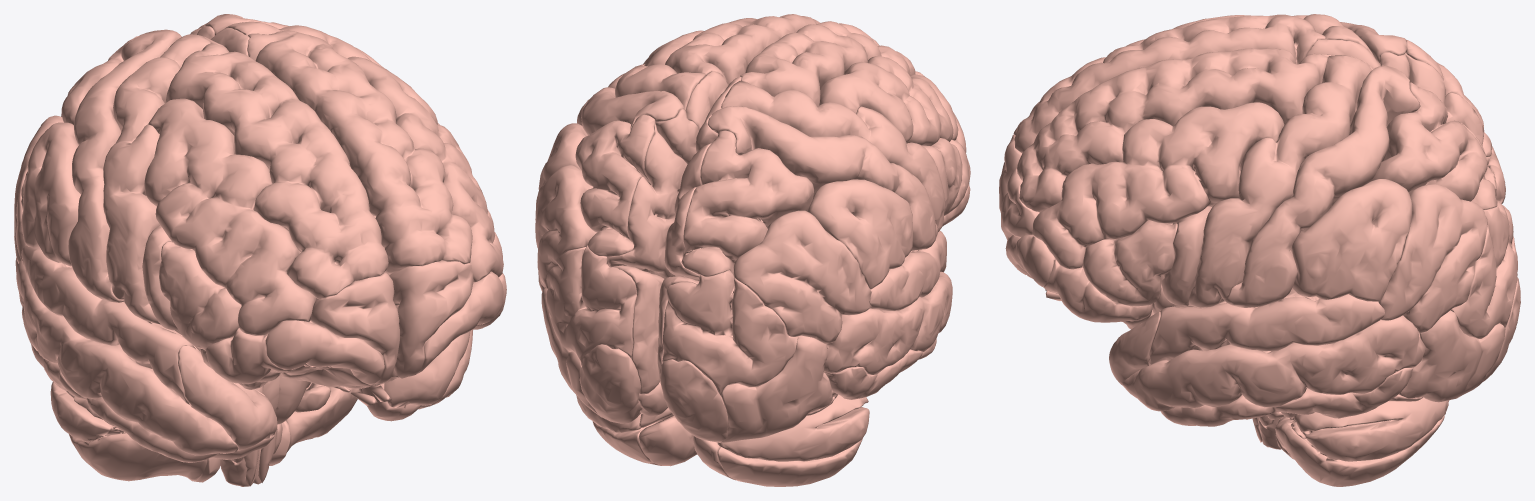
Rendered from brain-mobile.glb.
3 views of the same model, side by side, from view 1: azimuth 30°, elevation 25°; view 2: azimuth 150°, elevation 25°; view 3: azimuth 270°, elevation 25° (orthographic). The views are drawn at different scales.
Parts seen in each view (by area): view 1: Allen_superior_frontal_gyrus_L, Allen_middle_frontal_gyrus_L, Allen_superior_frontal_gyrus_R, Allen_middle_temporal_gyrus_L, Allen_precentral_gyrus_L, Allen_postcentral_gyrus_L, Allen_superior_temporal_gyrus_L, Allen_middle_frontal_gyrus_R, Allen_supramarginal_gyrus_L, Allen_frontal_pole_R, Allen_lateral_hemisphere_of_cerebellum_L, Allen_inferior_frontal_gyrus_triangular_part_L (+19 smaller); view 2: Allen_angular_gyrus_L, Allen_supraparietal_lobule_L, Allen_superior_occipital_gyrus_L, Allen_postcentral_gyrus_L, Allen_lateral_hemisphere_of_cerebellum_L, Allen_superior_occipital_gyrus_R, Allen_supraparietal_lobule_R, Allen_precentral_gyrus_L, Allen_supramarginal_gyrus_L, Allen_middle_frontal_gyrus_L, Allen_superior_frontal_gyrus_L, Allen_inferior_occipital_gyrus_L (+24 smaller); view 3: Allen_middle_frontal_gyrus_R, Allen_superior_frontal_gyrus_R, Allen_middle_temporal_gyrus_R, Allen_precentral_gyrus_R, Allen_postcentral_gyrus_R, Allen_supramarginal_gyrus_R, Allen_angular_gyrus_R, Allen_superior_temporal_gyrus_R, Allen_lateral_hemisphere_of_cerebellum_R, Allen_superior_frontal_gyrus_L, Allen_supraparietal_lobule_R, Allen_inferior_frontal_gyrus_triangular_part_R (+16 smaller).
Boxes of the visible parts, left/top/right/bottom form: Allen_superior_frontal_gyrus_L: left=165, top=43, right=388, bottom=299; Allen_middle_frontal_gyrus_L: left=144, top=98, right=315, bottom=335; Allen_superior_frontal_gyrus_R: left=247, top=30, right=472, bottom=273; Allen_middle_temporal_gyrus_L: left=16, top=260, right=238, bottom=455; Allen_precentral_gyrus_L: left=103, top=34, right=210, bottom=324; Allen_postcentral_gyrus_L: left=68, top=29, right=181, bottom=302; Allen_superior_temporal_gyrus_L: left=21, top=245, right=195, bottom=404; Allen_middle_frontal_gyrus_R: left=347, top=56, right=503, bottom=282; Allen_supramarginal_gyrus_L: left=21, top=122, right=80, bottom=266; Allen_frontal_pole_R: left=389, top=260, right=473, bottom=378; Allen_lateral_hemisphere_of_cerebellum_L: left=50, top=382, right=207, bottom=481; Allen_inferior_frontal_gyrus_triangular_part_L: left=159, top=241, right=241, bottom=350; Allen_angular_gyrus_L: left=733, top=210, right=870, bottom=344; Allen_supraparietal_lobule_L: left=681, top=130, right=813, bottom=276; Allen_superior_occipital_gyrus_L: left=662, top=270, right=798, bottom=394; Allen_postcentral_gyrus_L: left=707, top=106, right=938, bottom=250; Allen_lateral_hemisphere_of_cerebellum_L: left=717, top=394, right=869, bottom=486; Allen_superior_occipital_gyrus_R: left=546, top=245, right=636, bottom=365; Allen_supraparietal_lobule_R: left=575, top=114, right=655, bottom=256; Allen_precentral_gyrus_L: left=721, top=81, right=944, bottom=231; Allen_supramarginal_gyrus_L: left=807, top=179, right=912, bottom=289; Allen_middle_frontal_gyrus_L: left=819, top=55, right=966, bottom=152; Allen_superior_frontal_gyrus_L: left=740, top=21, right=923, bottom=106; Allen_inferior_occipital_gyrus_L: left=720, top=335, right=836, bottom=442; Allen_middle_frontal_gyrus_R: left=1032, top=102, right=1284, bottom=269; Allen_superior_frontal_gyrus_R: left=1017, top=48, right=1327, bottom=212; Allen_middle_temporal_gyrus_R: left=1122, top=315, right=1425, bottom=411; Allen_precentral_gyrus_R: left=1188, top=55, right=1371, bottom=307; Allen_postcentral_gyrus_R: left=1225, top=65, right=1420, bottom=307; Allen_supramarginal_gyrus_R: left=1290, top=179, right=1412, bottom=301; Allen_angular_gyrus_R: left=1378, top=184, right=1487, bottom=333; Allen_superior_temporal_gyrus_R: left=1149, top=294, right=1384, bottom=365; Allen_lateral_hemisphere_of_cerebellum_R: left=1267, top=397, right=1448, bottom=486; Allen_superior_frontal_gyrus_L: left=1013, top=14, right=1325, bottom=153; Allen_supraparietal_lobule_R: left=1371, top=82, right=1497, bottom=209; Allen_inferior_frontal_gyrus_triangular_part_R: left=1082, top=220, right=1177, bottom=306.
Size of the model in its own units: 0.1364 by 0.1461 by 0.167.
